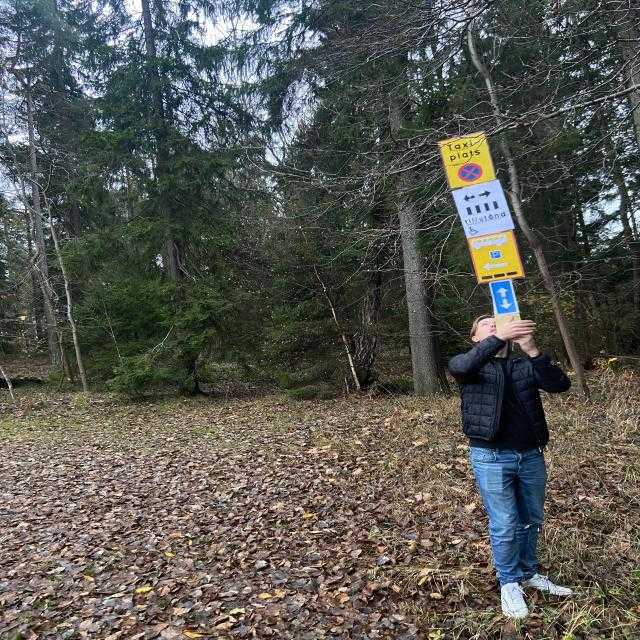lastplats: (436, 133, 497, 184)
